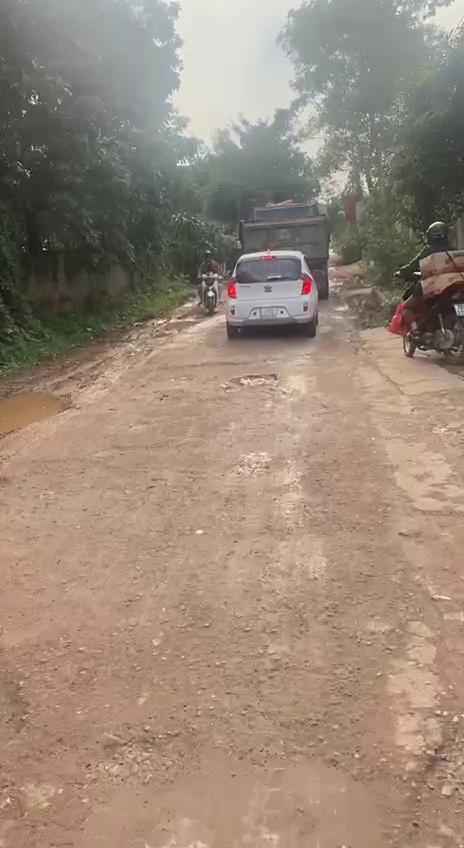pothole: (0, 382, 82, 444), (421, 698, 464, 812), (0, 668, 36, 742), (228, 373, 280, 390)
